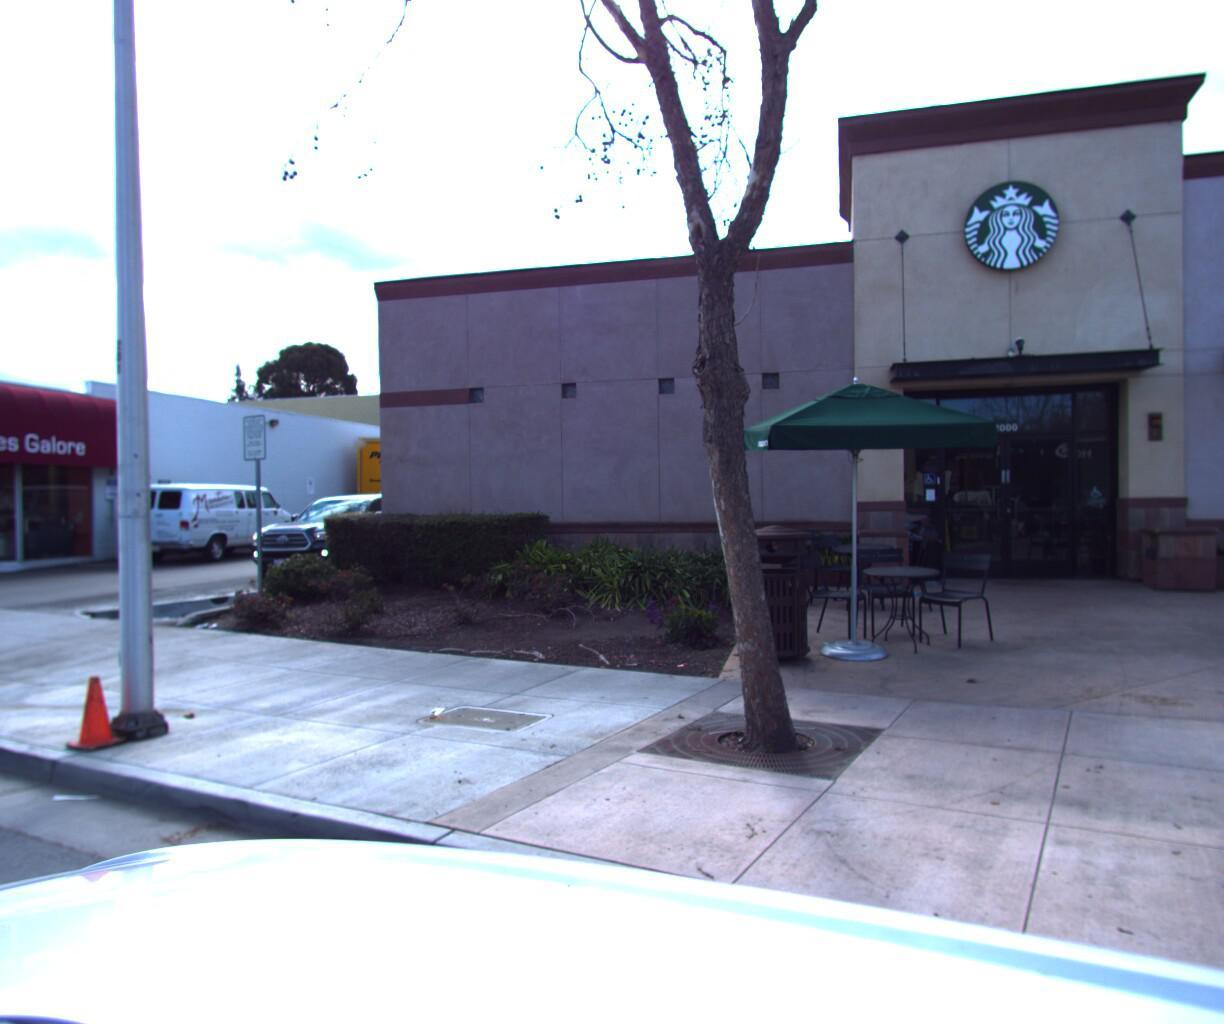car: (234, 490, 472, 596), (113, 478, 303, 563)
